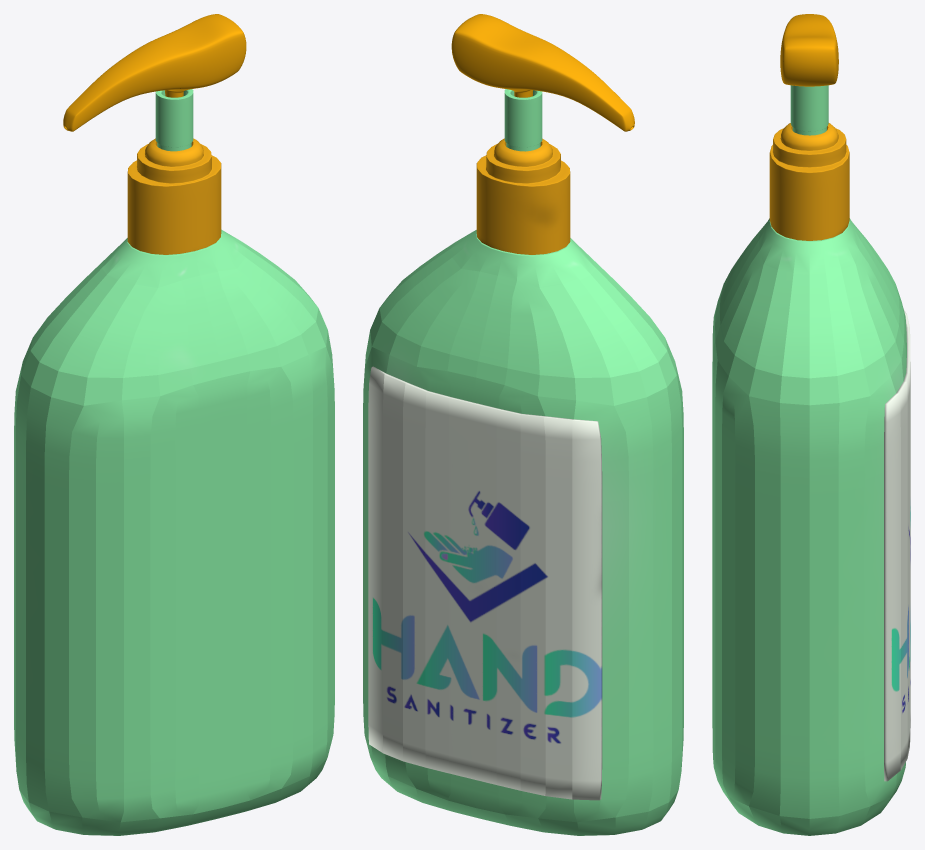
File: sanitizer.fbx
The picture shows the model from 3 angles, left to right: view 1: azimuth 30°, elevation 25°; view 2: azimuth 150°, elevation 25°; view 3: azimuth 270°, elevation 25°; orthographic projection.
Visible parts, largest first — view 1: MC_AXR_Bottle_Body1; view 2: MC_AXR_Bottle_Body1; view 3: MC_AXR_Bottle_Body1.
Part boxes in pixels (x1,y1,x2,y2): MC_AXR_Bottle_Body1: (14,14,334,835); MC_AXR_Bottle_Body1: (363,14,683,835); MC_AXR_Bottle_Body1: (712,14,910,835).
Size of the model in its own units: 7485 by 18184 by 4343.
